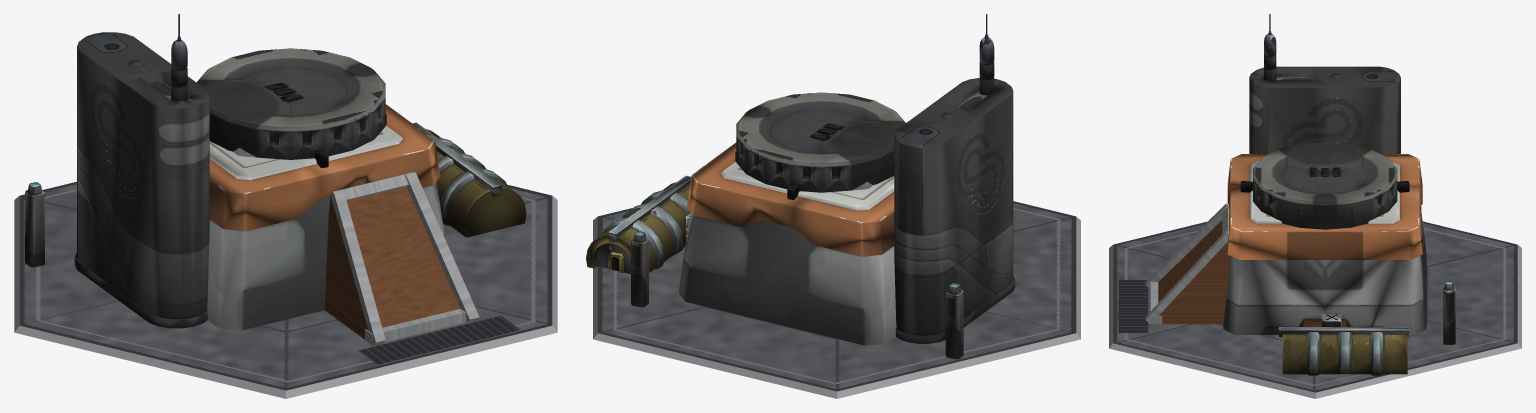
Rendered from ThorvaldConsignmentTerminal.fbx.
3 renders of one model, left to right at view 1: azimuth 30°, elevation 25°; view 2: azimuth 150°, elevation 25°; view 3: azimuth 270°, elevation 25°, orthographic. The views are drawn at different scales.
Visible parts, largest first — view 1: ThorvaldConsignmentTerminal; view 2: ThorvaldConsignmentTerminal; view 3: ThorvaldConsignmentTerminal.
Part boxes in pixels (x1,y1,x2,y2): ThorvaldConsignmentTerminal: (14, 14, 557, 398); ThorvaldConsignmentTerminal: (586, 14, 1080, 398); ThorvaldConsignmentTerminal: (1109, 14, 1521, 398).
Size of the model in its own units: 5.5 by 4.76 by 2.97.
1 material, 1 textured.
